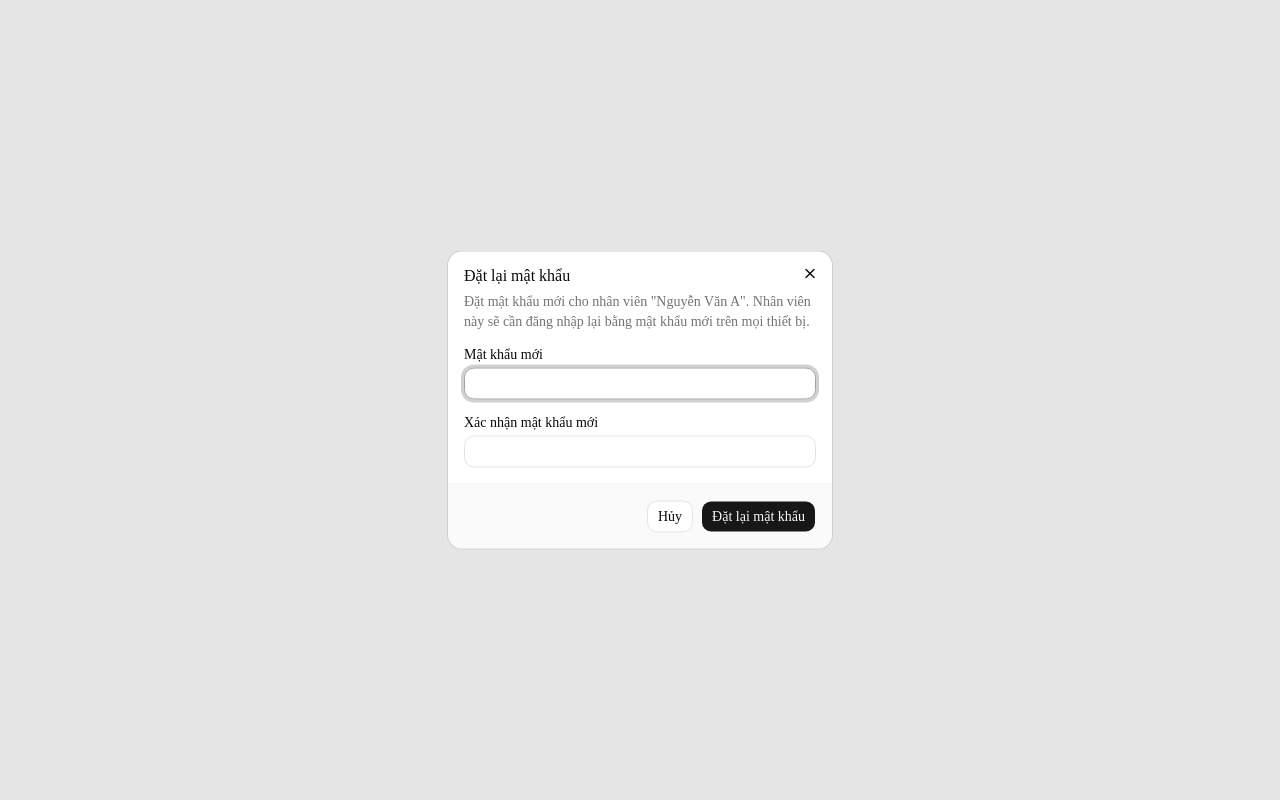
Test: UserResetPasswordDialog (T052.02C §11) › rejects a password shorter than 8 characters
The width and height of the screenshot is (1280, 800).
Type "short1" into the password field labelled "Mật khẩu mới" at (640, 384), box [464,368,816,400]
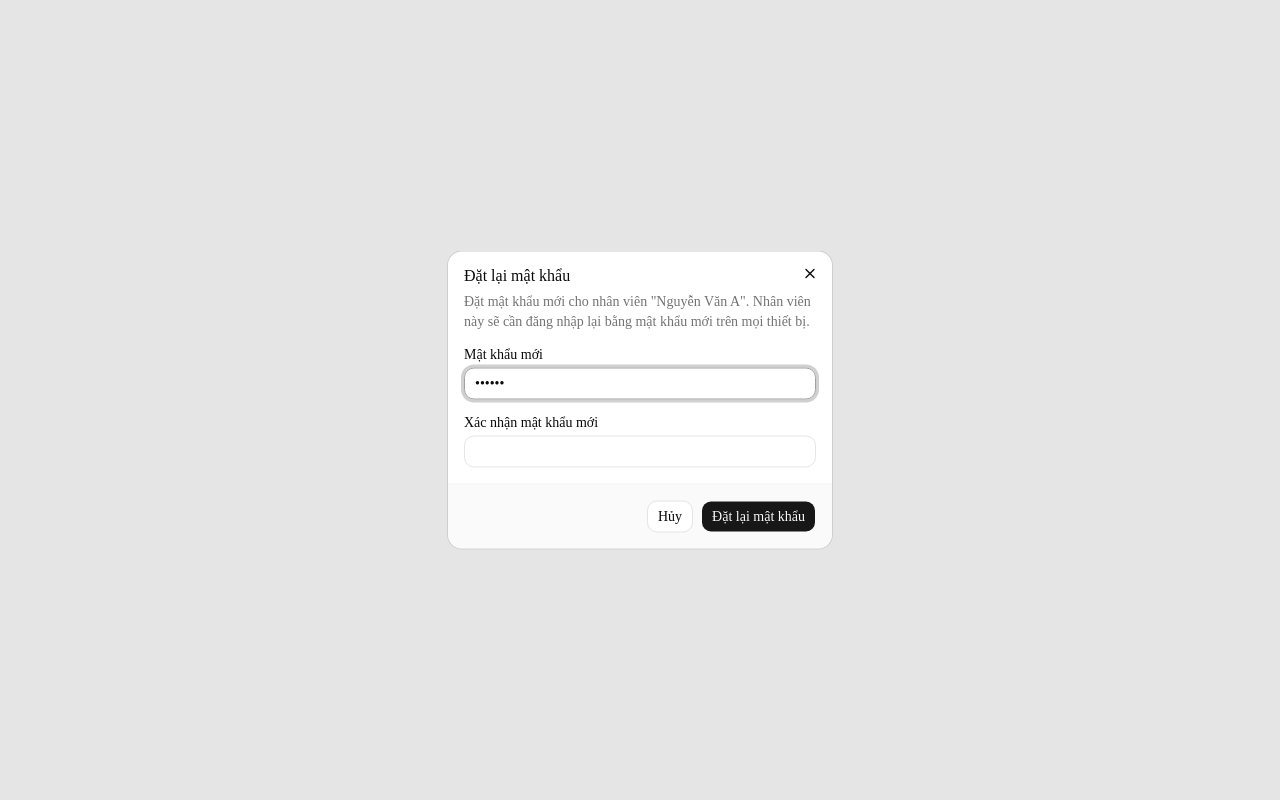
Type "short1" into the password field labelled "Xác nhận mật khẩu mới" at (640, 452), box [464,436,816,468]
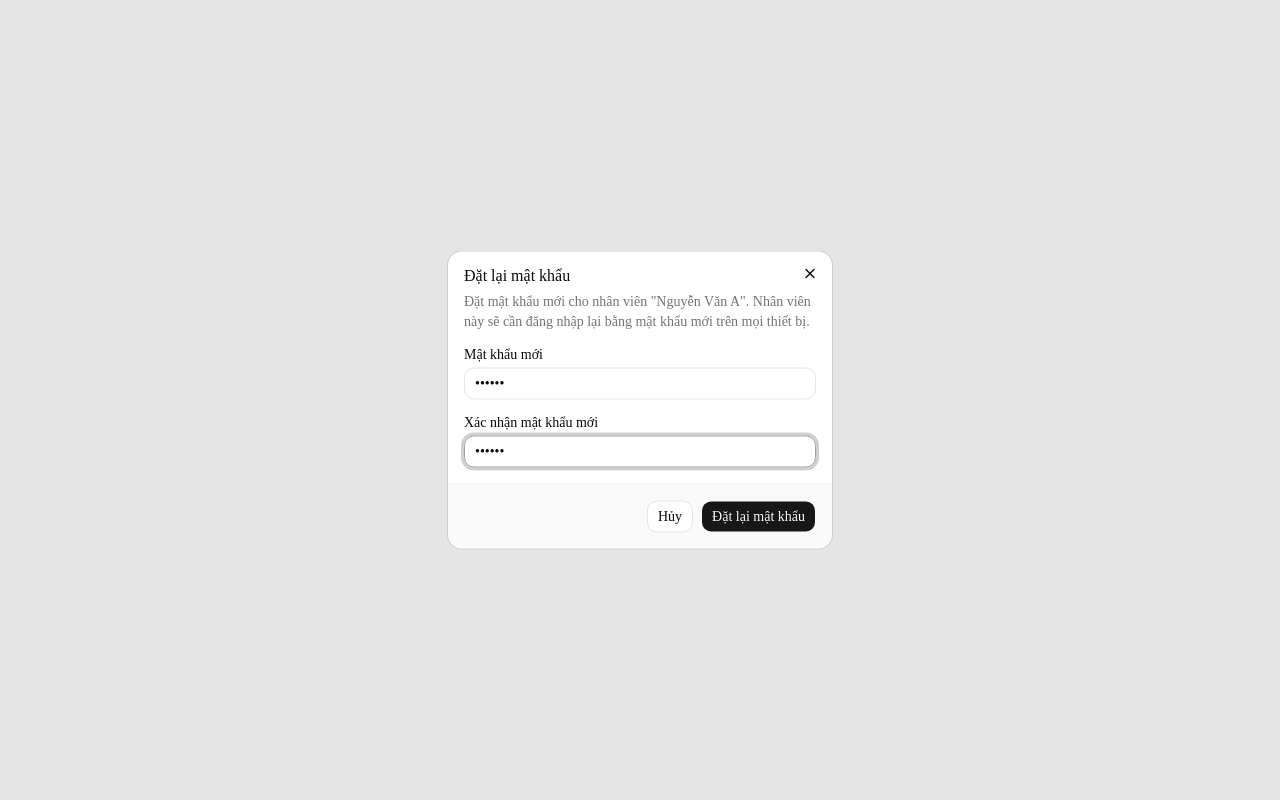
Click the button "Đặt lại mật khẩu" at (759, 516), box [701,500,816,532]
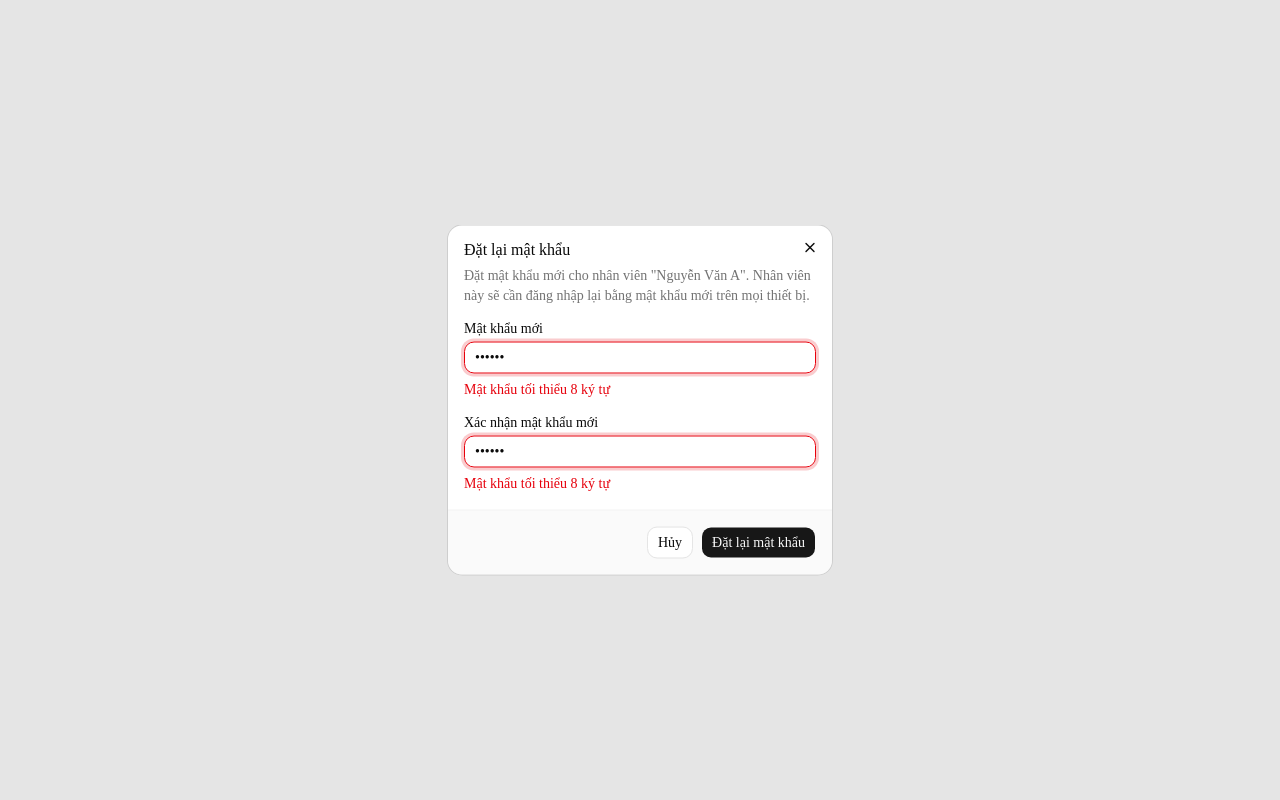
Expected: the 1st text "Mật khẩu tối thiểu 8 ký tự" is shown, [464,382,610,396]
